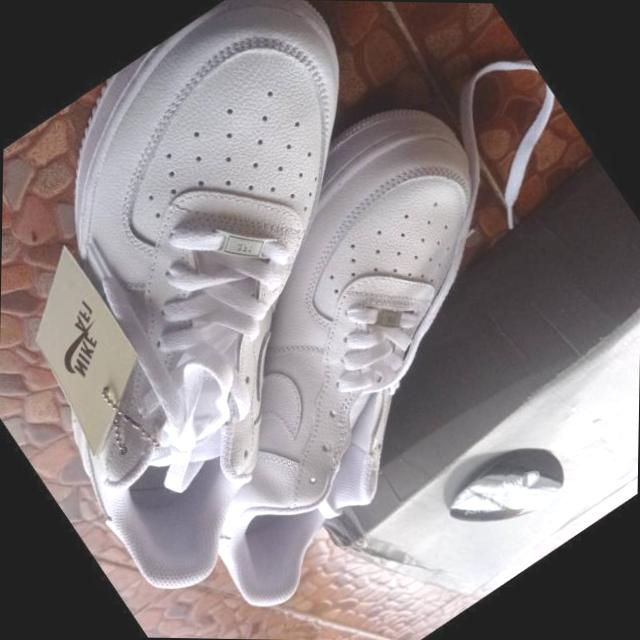nike_fake_airforce: (0, 0, 571, 624), (48, 43, 640, 626)
